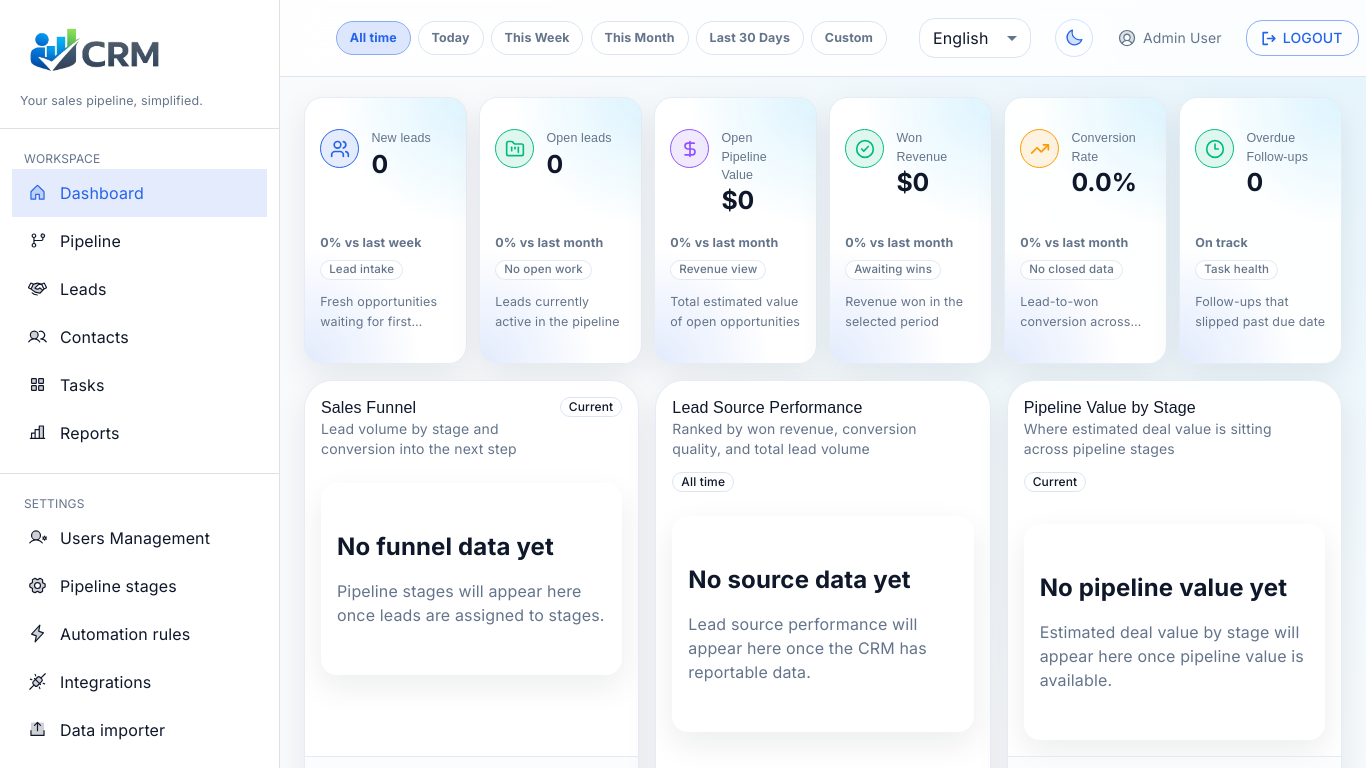
Test: Auth flow › logs out from the topbar
This screenshot has width=1366, height=768.
Click the button "Logout" at (1302,38), box x1=1246 y1=20 x2=1359 y2=56
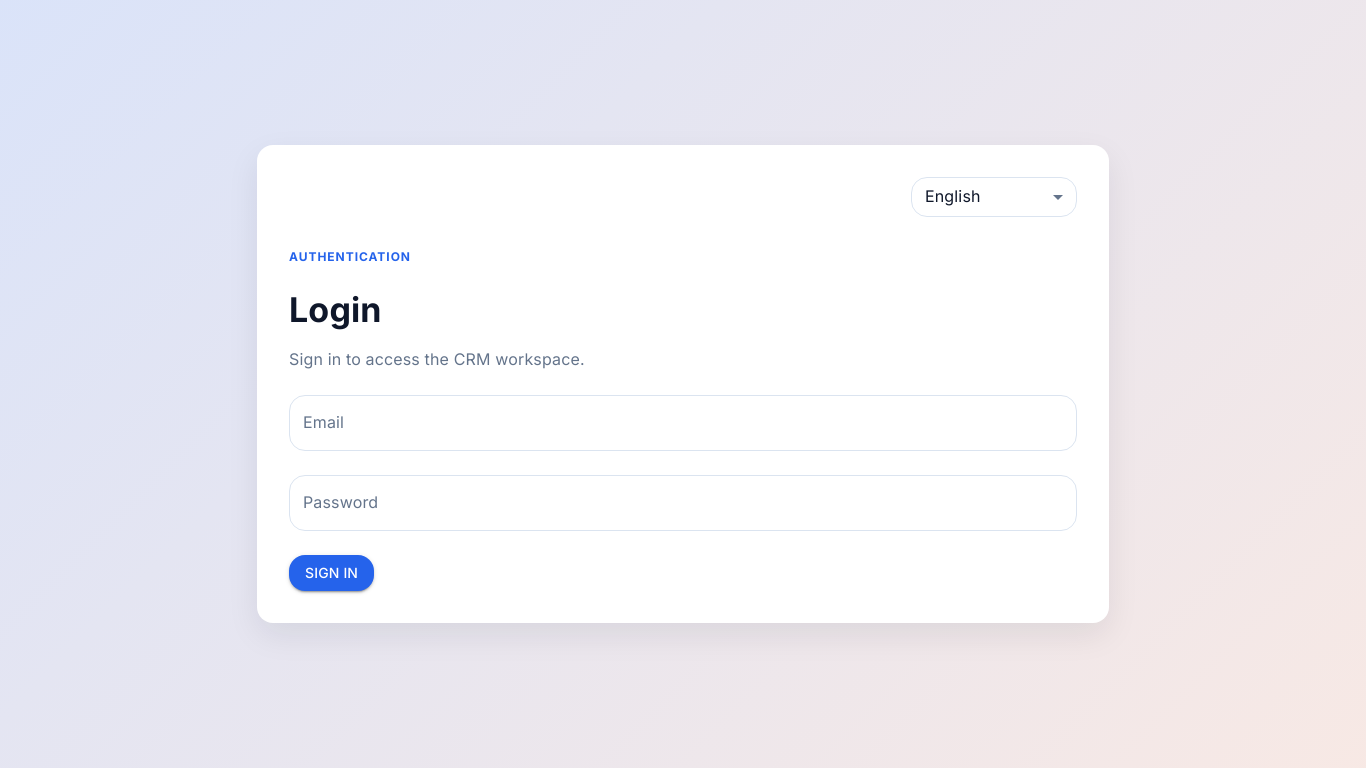
Expected: the heading "Login" is shown, x1=289 y1=289 x2=382 y2=330
